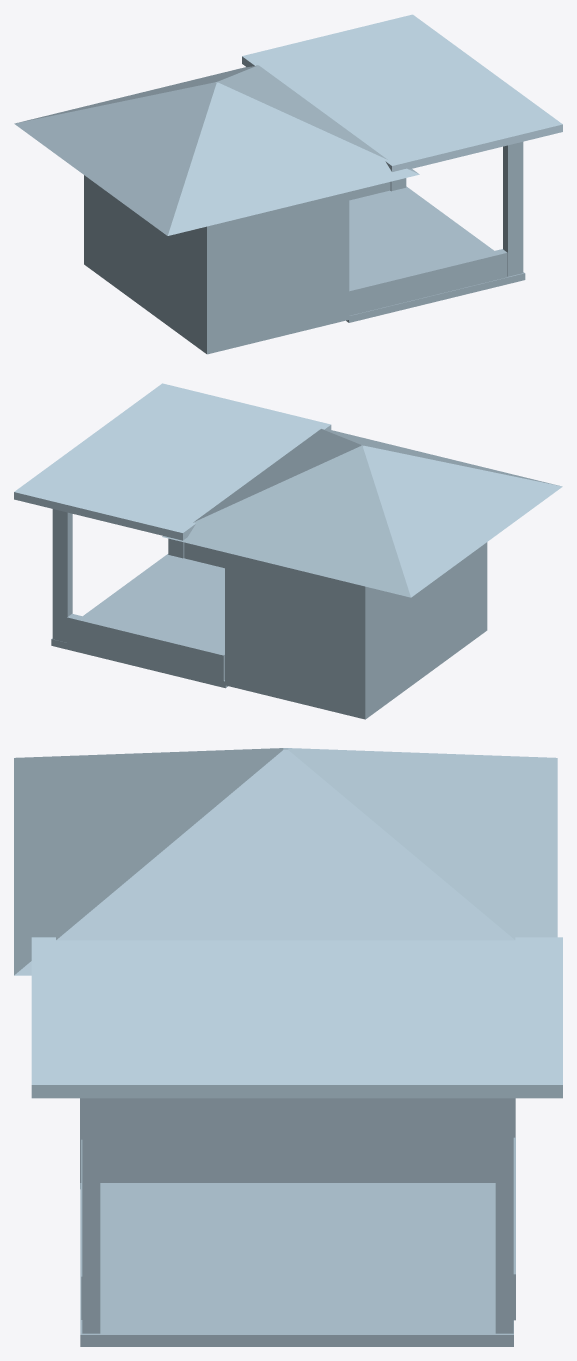
File: Housing10Nav.glb
The picture shows the model from 3 angles, top to bottom: view 1: azimuth 30°, elevation 25°; view 2: azimuth 150°, elevation 25°; view 3: azimuth 270°, elevation 25°; orthographic projection. The views are drawn at different scales.
Parts seen in each view (by area): view 1: Cube.001, Cube, Cube.005, Cube.002, Cube.006, Cube.004; view 2: Cube.001, Cube, Cube.005, Cube.002, Cube.007, Cube.003, Cube.006; view 3: Cube.001, Cube.005, Cube.002, Cube, Cube.003, Cube.004.
Part boxes in pixels (x1,y1,x2,y2): Cube.001: (14,65,419,235); Cube: (84,175,349,354); Cube.005: (242,14,562,171); Cube.002: (346,186,525,322); Cube.006: (349,249,507,315); Cube.004: (503,142,523,276); Cube.001: (162,429,562,597); Cube: (225,542,487,719); Cube.005: (14,383,331,540); Cube.002: (51,554,227,688); Cube.007: (67,614,224,680); Cube.003: (52,509,72,642); Cube.006: (184,542,224,568); Cube.001: (14,748,557,975); Cube.005: (31,937,562,1098); Cube.002: (80,1183,513,1346); Cube: (80,1098,515,1188); Cube.003: (495,1098,513,1333); Cube.004: (82,1098,100,1333).
Size of the model in its own units: 11.26 by 5.81 by 7.56.
